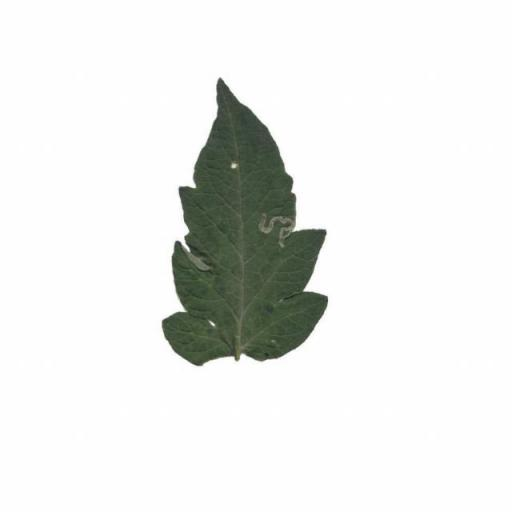disease_tomato: (163, 73, 329, 365)
